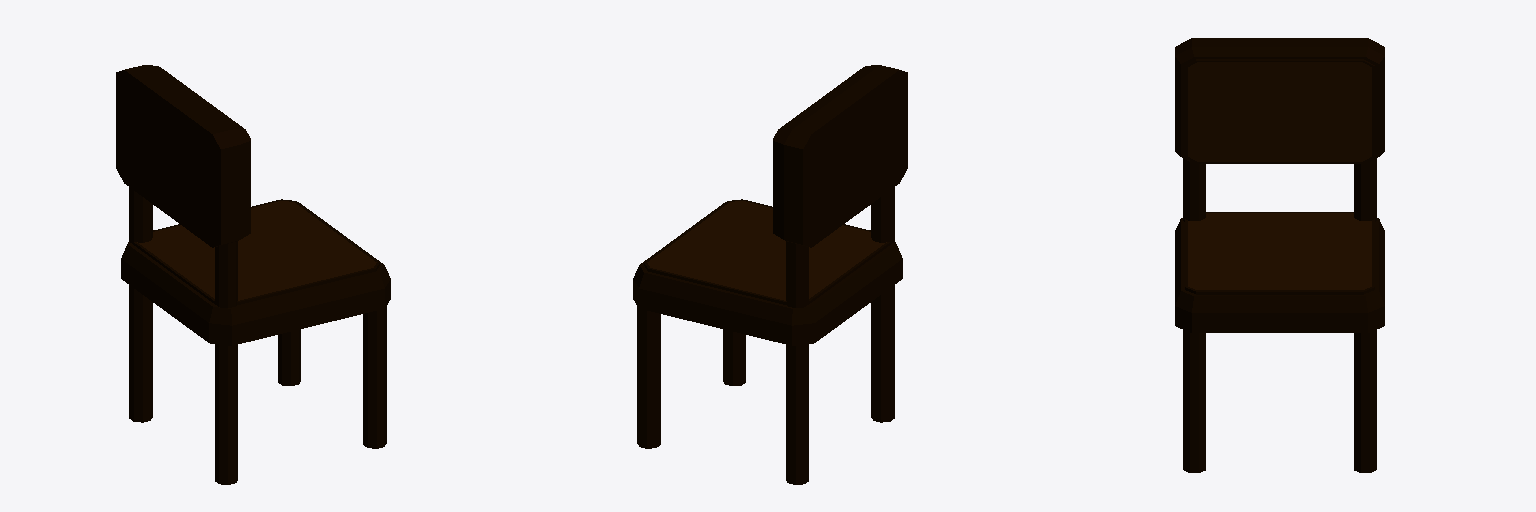
File: Chair.obj
3 renders of one model, left to right at view 1: azimuth 30°, elevation 25°; view 2: azimuth 150°, elevation 25°; view 3: azimuth 270°, elevation 25°, orthographic.
Visible parts, largest first — view 1: Cube.002_Cube.004; view 2: Cube.002_Cube.004; view 3: Cube.002_Cube.004.
Boxes of the visible parts, <box> form: Cube.002_Cube.004: <box>116,65,390,484</box>; Cube.002_Cube.004: <box>633,65,907,484</box>; Cube.002_Cube.004: <box>1175,38,1384,472</box>.
Bounding box in the file's own units: 1.29 × 2.37 × 1.29.